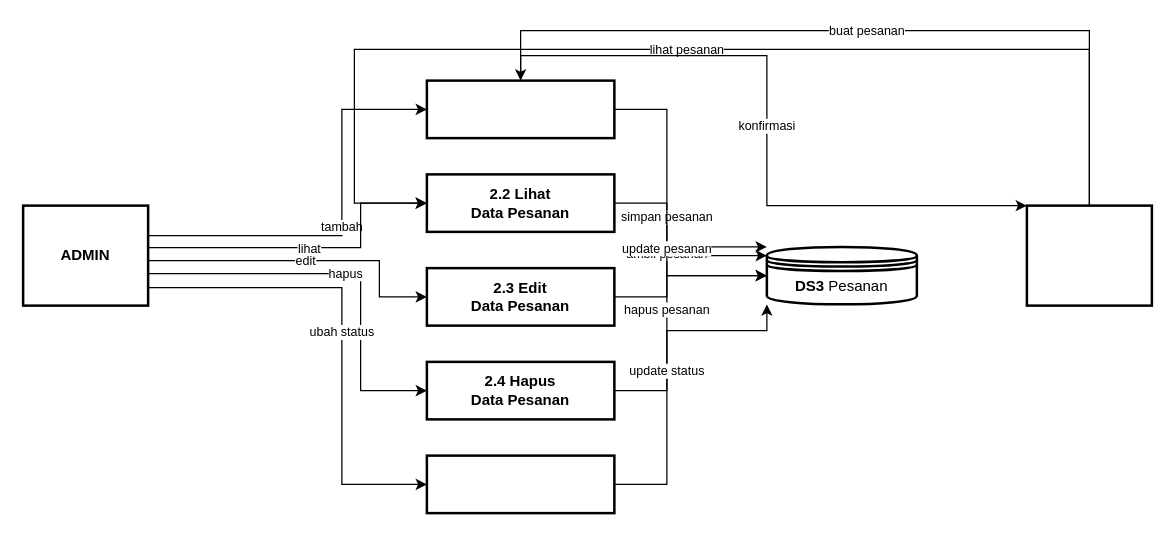
Some shapes in this 1174 by 536 pixel diagram are drawn without their labels. The shapes that lost their labels are listed below. From the top down, each one's centre as x and y in pixels, then its label:
point (520, 109): 2.1 Tambah Data Pesanan
point (1088, 255): PELANGGAN (USER)
point (520, 484): 2.5 Ubah Status Pesanan
